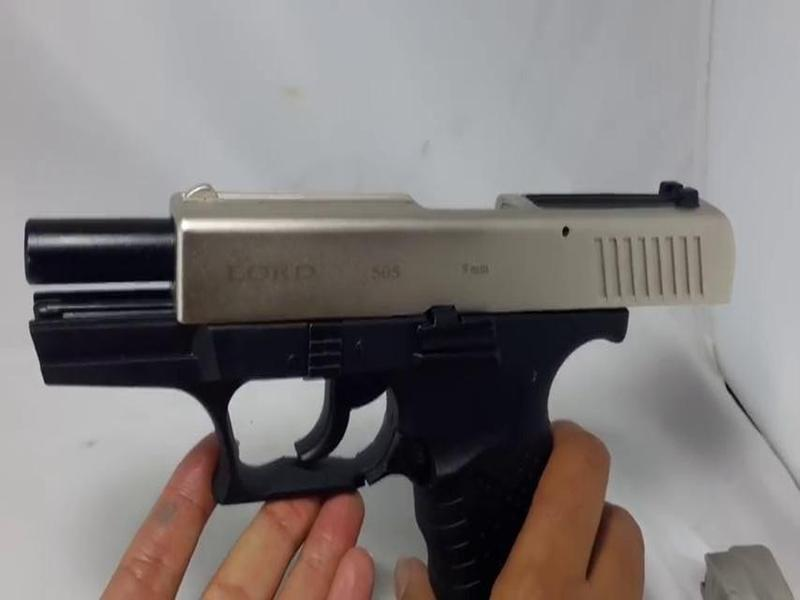Pistola: (19, 177, 724, 600)
